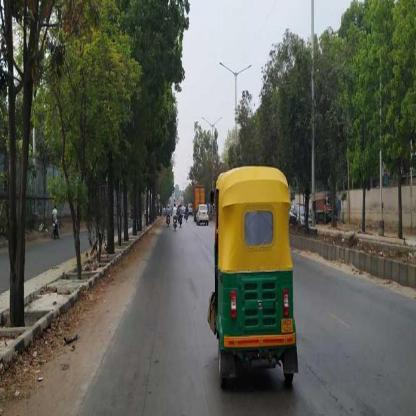auto-rikshaw: (209, 168, 300, 404)
